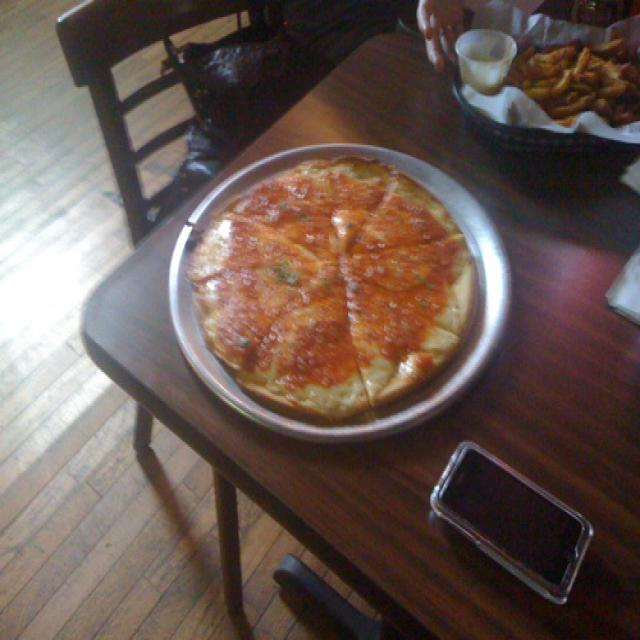chair: (54, 0, 267, 452)
dining table: (81, 29, 640, 630)
